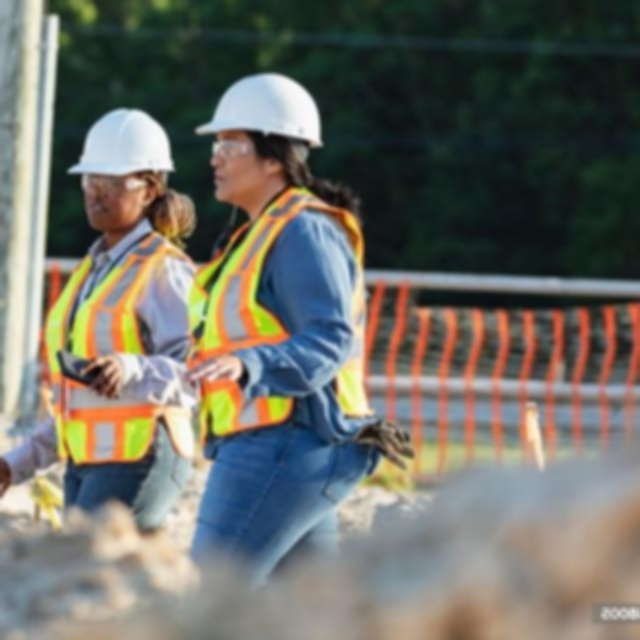Con_Casco: (197, 71, 325, 200), (68, 106, 174, 233)
Con_Chaleco: (190, 197, 378, 430), (44, 233, 198, 465)
